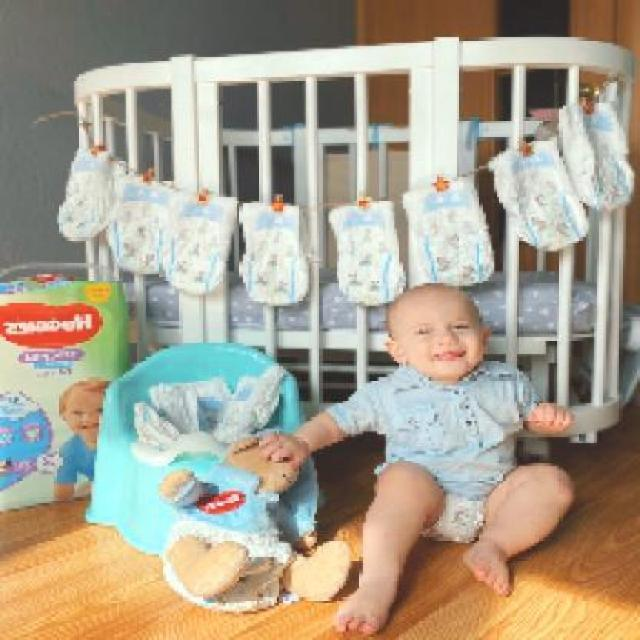child: (257, 279, 577, 635)
